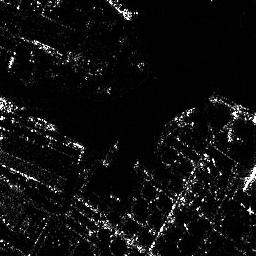ship: (206, 91, 256, 121)
